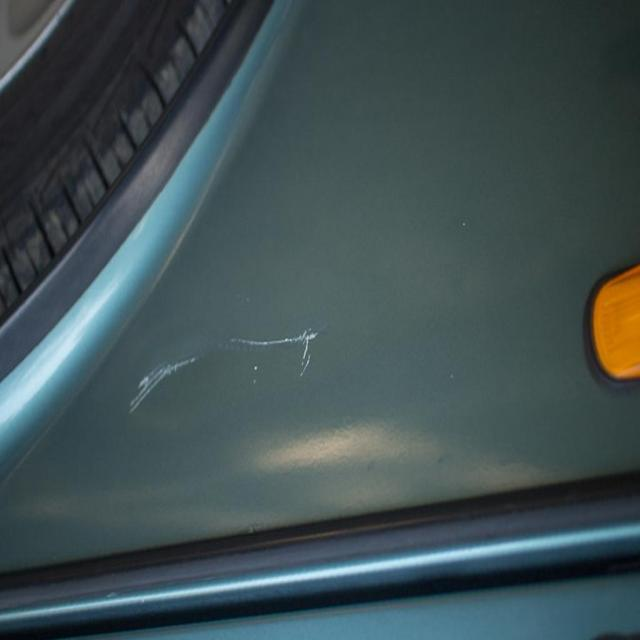scratch: (120, 314, 333, 420)
